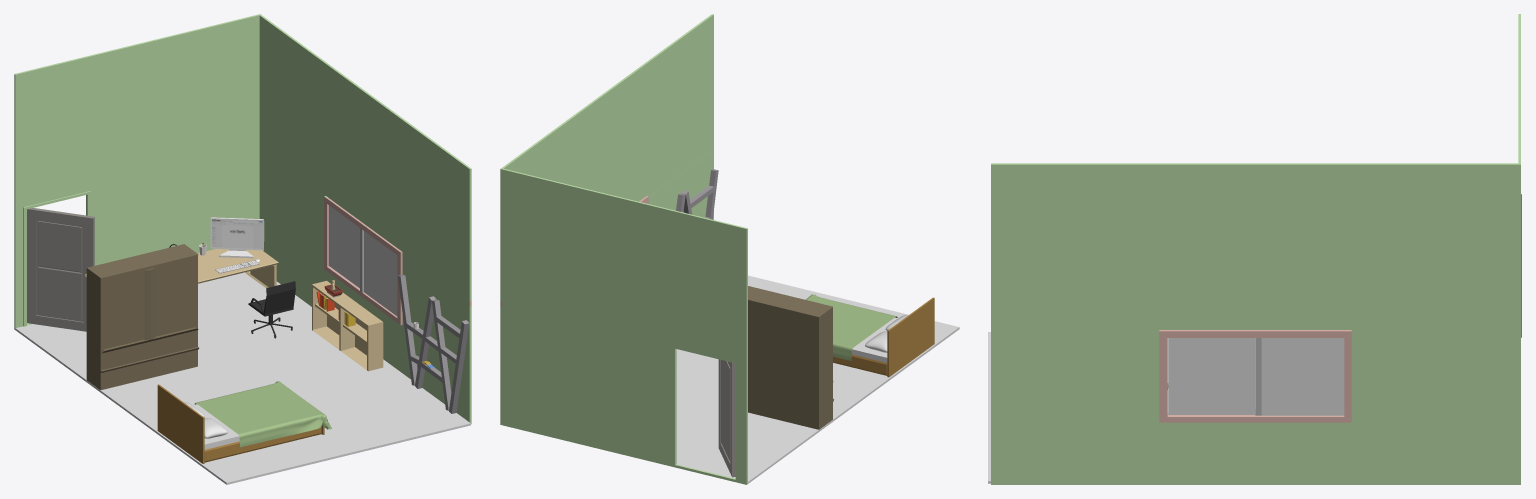
The model's file is Room_Full.fbx.
3 renders of one model, left to right at view 1: azimuth 30°, elevation 25°; view 2: azimuth 150°, elevation 25°; view 3: azimuth 270°, elevation 25°, orthographic. The views are drawn at different scales.
Visible parts, largest first — view 1: FrontWall, SideWall, Ground, Closet, Door, Plane, Cube.004, Cube.003, Cube.002, Window, Cube.005, Table (+2 smaller); view 2: FrontWall, SideWall, Ground, Closet, Cube.004, Plane, Door, Cube.003; view 3: SideWall, Window, Window.001, Ground.
Boxes of the visible parts, x1=… form: FrontWall: x1=14, y1=14, x2=259, y2=329; SideWall: x1=258, y1=14, x2=471, y2=424; Ground: x1=15, y1=272, x2=470, y2=484; Closet: x1=86, y1=244, x2=198, y2=390; Door: x1=27, y1=208, x2=94, y2=331; Plane: x1=194, y1=381, x2=331, y2=447; Cube.004: x1=157, y1=384, x2=324, y2=463; Cube.003: x1=398, y1=274, x2=469, y2=413; Cube.002: x1=312, y1=280, x2=383, y2=371; Window: x1=364, y1=231, x2=397, y2=316; Cube.005: x1=210, y1=217, x2=264, y2=258; Table: x1=197, y1=249, x2=278, y2=287; FrontWall: x1=502, y1=168, x2=747, y2=484; SideWall: x1=500, y1=14, x2=713, y2=424; Ground: x1=676, y1=275, x2=959, y2=483; Closet: x1=748, y1=286, x2=833, y2=429; Cube.004: x1=833, y1=297, x2=934, y2=377; Plane: x1=805, y1=294, x2=897, y2=360; Door: x1=718, y1=359, x2=735, y2=477; Cube.003: x1=676, y1=169, x2=718, y2=219; SideWall: x1=991, y1=163, x2=1520, y2=484; Window: x1=1168, y1=338, x2=1254, y2=414; Window.001: x1=1261, y1=338, x2=1344, y2=415; Ground: x1=988, y1=332, x2=1255, y2=483.
Size of the model in its own units: 5.08 by 7.55 by 5.
